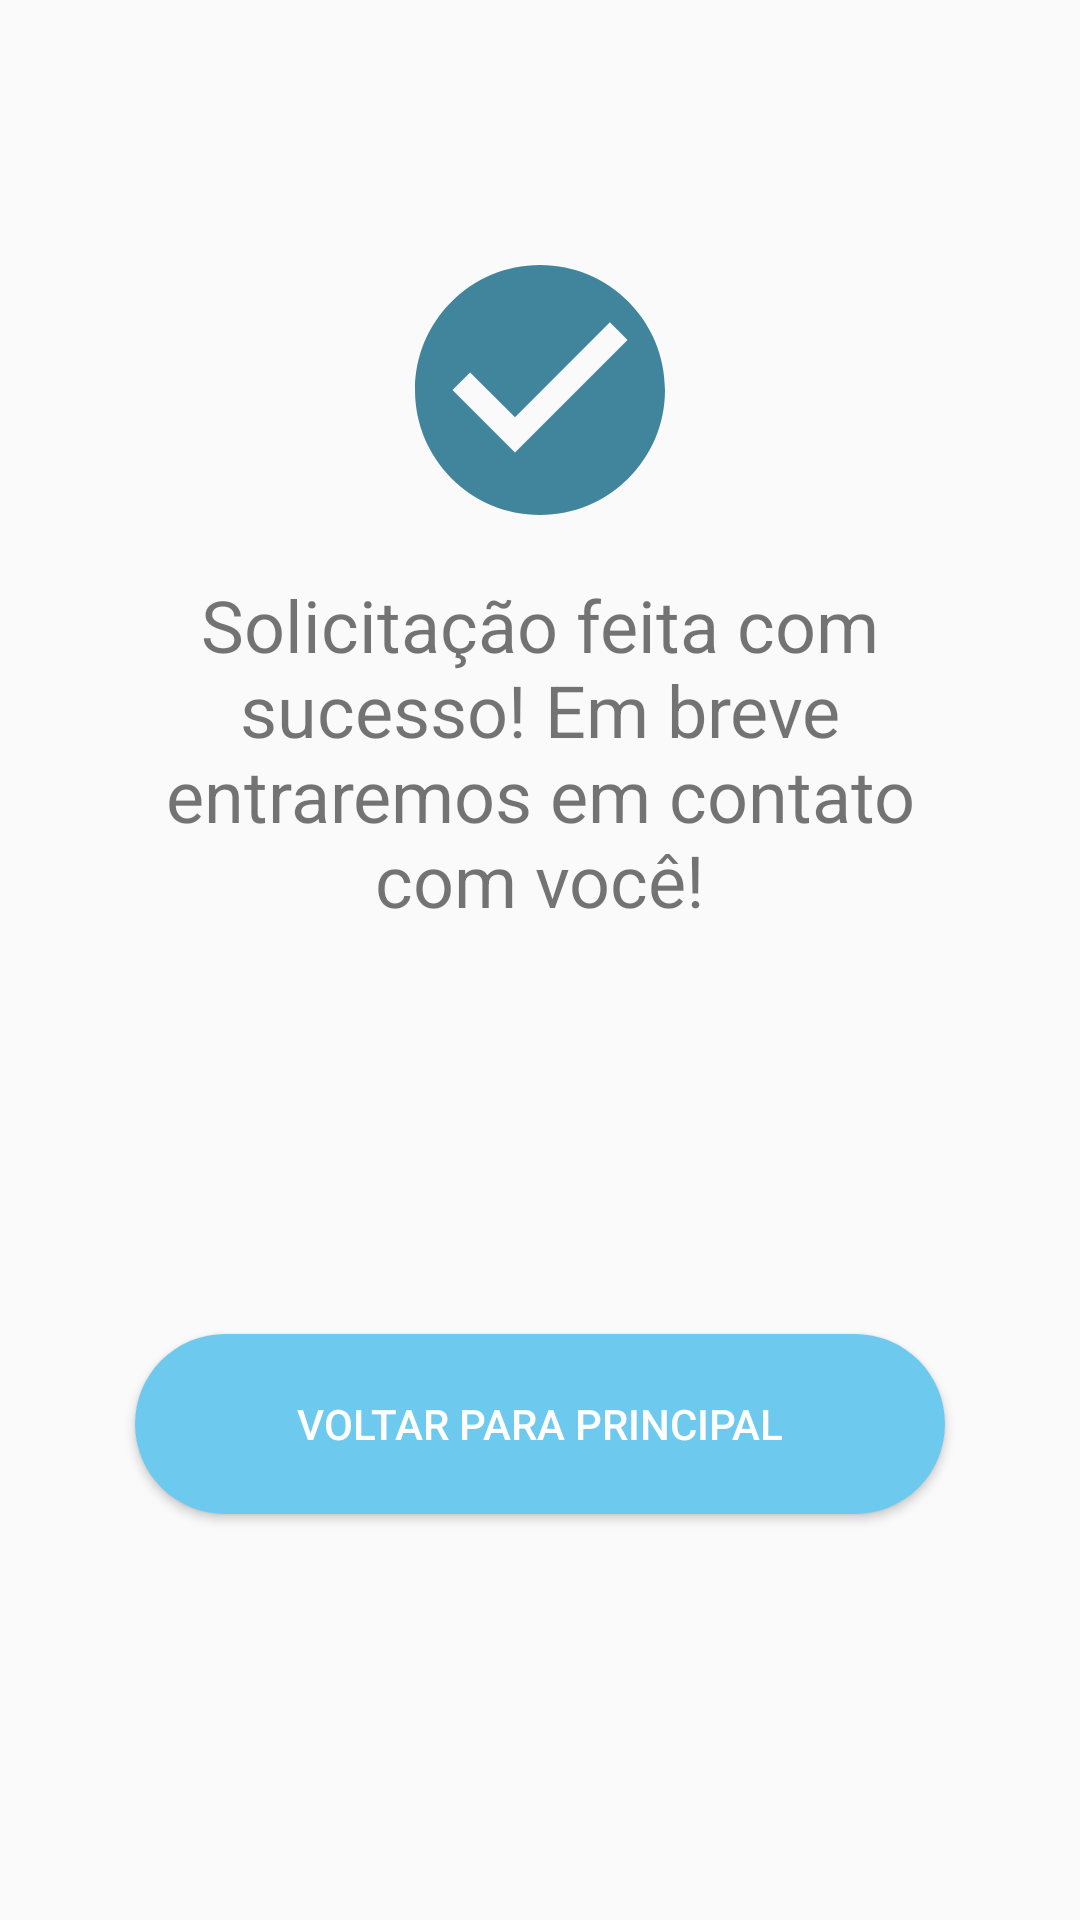

Screen size 1080px×1920px. Icon name, then its box in pixels as box(x1, y1, x2, y2):
check circle: box(415, 265, 665, 515)
